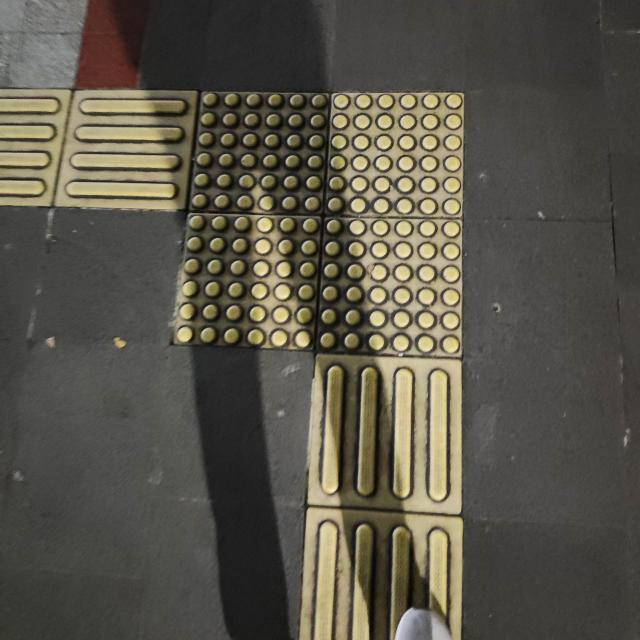kiri: (0, 72, 546, 461)
